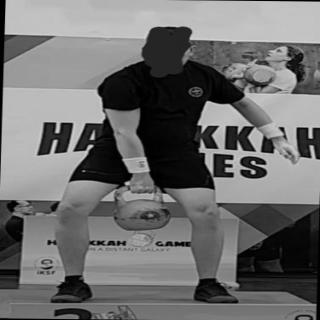kettlebell: (110, 185, 180, 234)
